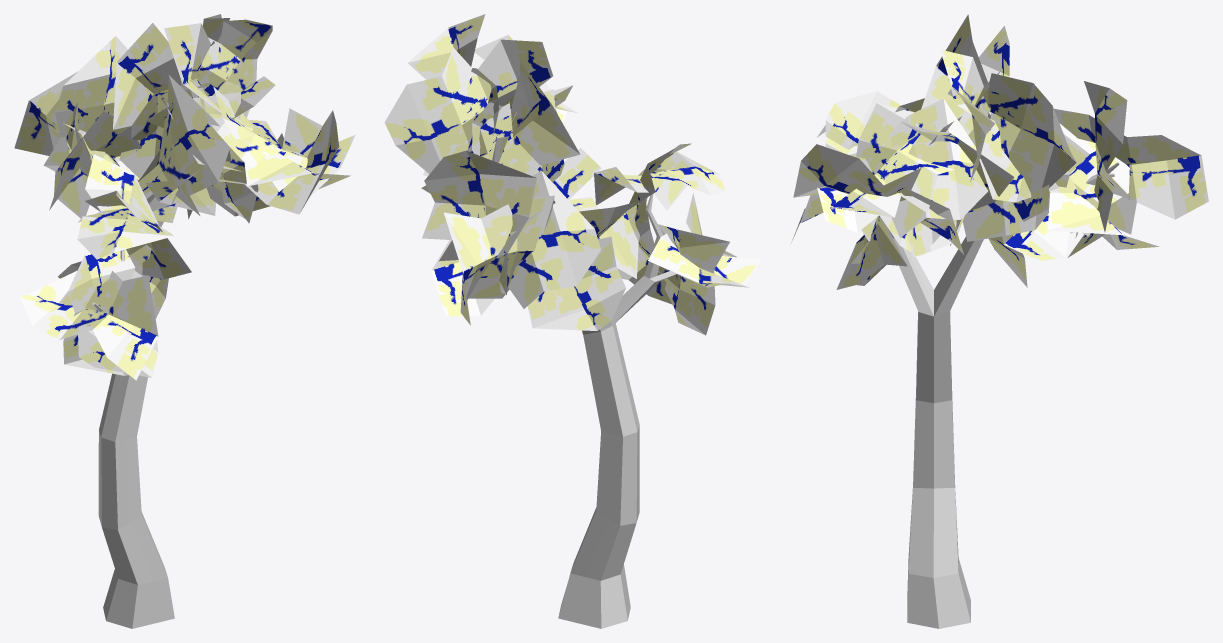
Rendered from tree.fbx.
3 views of the same model, side by side, from view 1: azimuth 30°, elevation 25°; view 2: azimuth 150°, elevation 25°; view 3: azimuth 270°, elevation 25° (orthographic). The views are drawn at different scales.
Visible parts, largest first — view 1: Branch.023, Cube.001; view 2: Branch.023, Cube.001; view 3: Branch.023, Cube.001.
Part boxes in pixels (x1=…): Branch.023: x1=14, y1=14, x2=355, y2=380; Cube.001: x1=92, y1=102, x2=174, y2=628; Branch.023: x1=384, y1=14, x2=760, y2=335; Cube.001: x1=558, y1=193, x2=676, y2=628; Branch.023: x1=791, y1=14, x2=1208, y2=289; Cube.001: x1=887, y1=112, x2=1119, y2=628.
Size of the model in its own units: 1551 by 2680 by 1643.
Materials: 2 (1 with a texture image).
